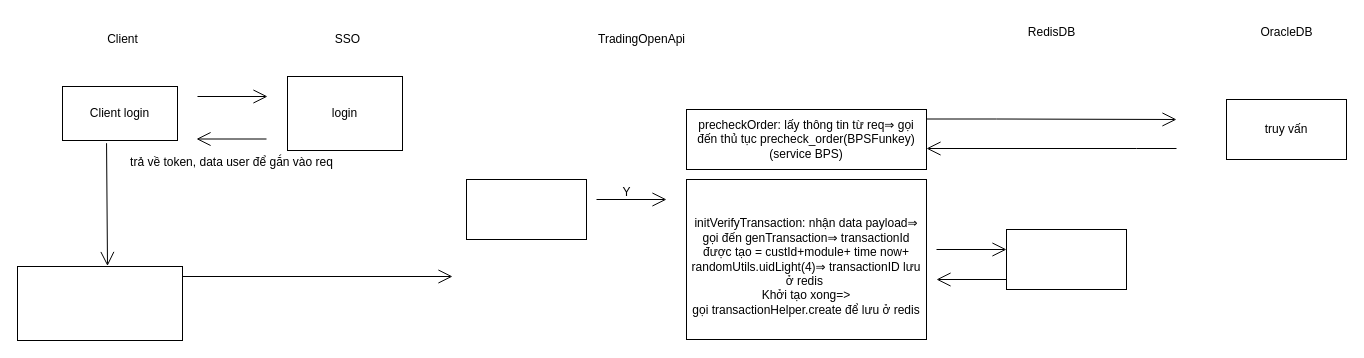
This 1364x358 diagram has some shape labels left out. The centre of each missing label's shape, as x and y in pixels:
Lấy header của req để auth .ok=> next(): point (526, 209)
Nhập thông tin cổ phiếu mua/bán và click "Xác nhân": point (99, 303)
Save: point (1066, 259)
